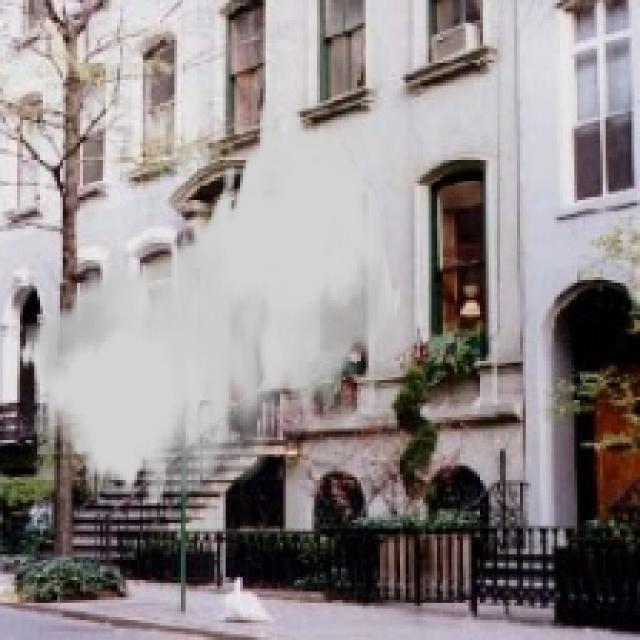Smoke: (17, 100, 403, 506)
